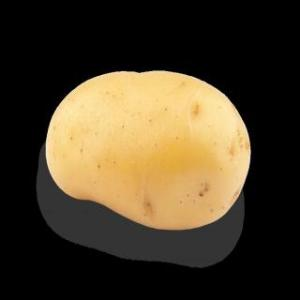potato: (47, 71, 251, 229)
